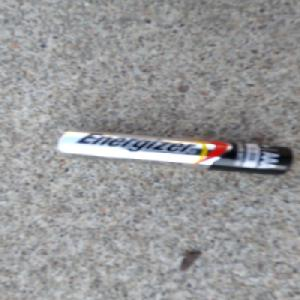Battery: (52, 129, 294, 176)
